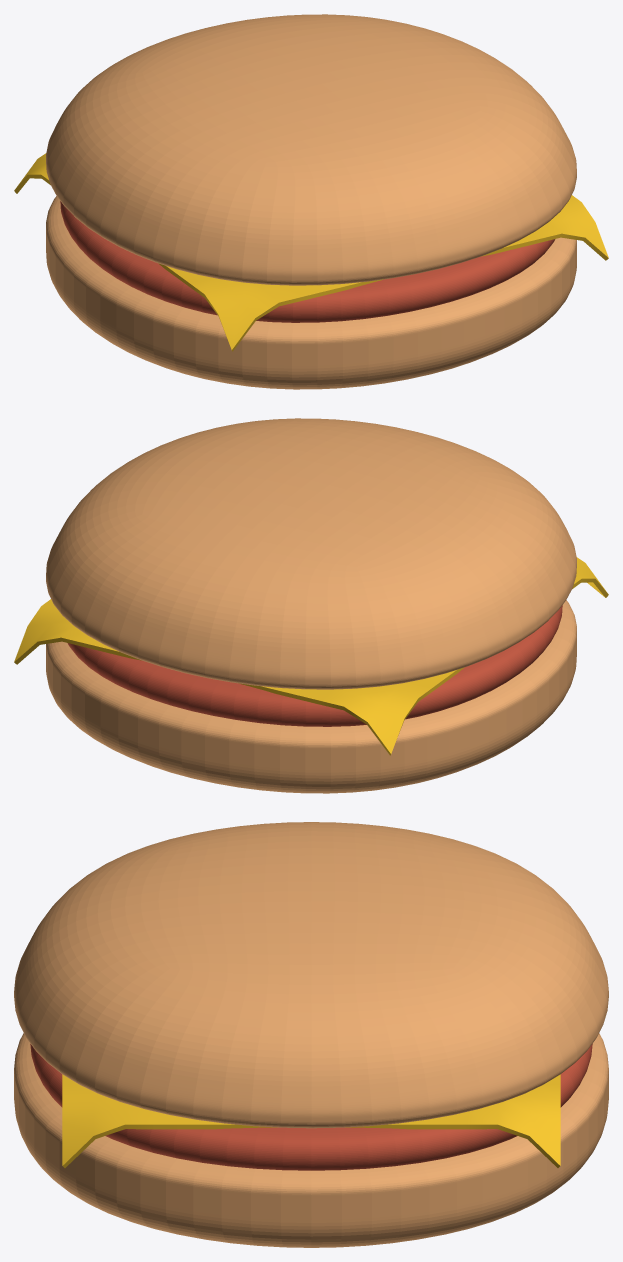
File: hamburger.glb
3 views of the same model, one above another, from view 1: azimuth 30°, elevation 25°; view 2: azimuth 150°, elevation 25°; view 3: azimuth 270°, elevation 25° (orthographic). The views are drawn at different scales.
Parts seen in each view (by area): view 1: Cube.002, Cube, Cube.001, Plan; view 2: Cube.002, Cube, Cube.001, Plan; view 3: Cube.002, Cube, Cube.001, Plan.
Boxes of the visible parts, x1,y1,x2,y2 form: Cube.002: (46,14,576,285); Cube: (46,196,576,389); Cube.001: (60,201,555,322); Plan: (14,153,608,351); Cube.002: (46,418,576,689); Cube: (46,600,576,793); Cube.001: (67,605,562,726); Plan: (14,557,608,755); Cube.002: (14,822,608,1128); Cube: (14,1033,608,1247); Cube.001: (30,1044,592,1170); Plan: (62,1074,560,1167).
Size of the model in its own units: 9.15 by 4.6 by 9.15.
